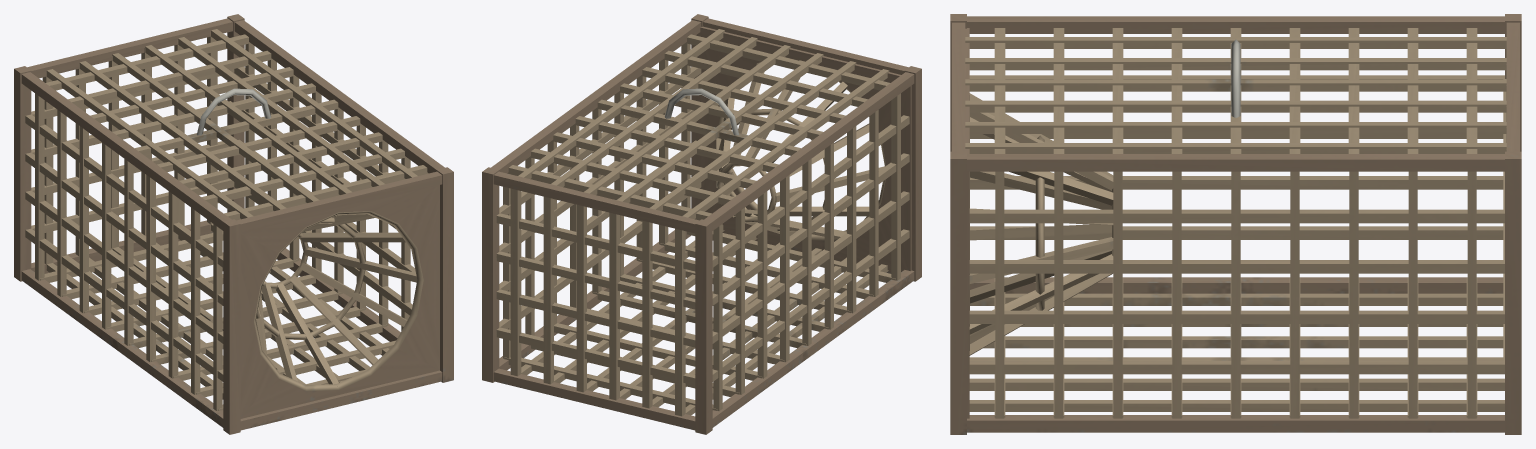
Rendered from lake_fishing_trap_cage.glb.
The picture shows the model from 3 angles, left to right: view 1: azimuth 30°, elevation 25°; view 2: azimuth 150°, elevation 25°; view 3: azimuth 270°, elevation 25°; orthographic projection. The views are drawn at different scales.
Visible parts, largest first — view 1: FishingTrapCage; view 2: FishingTrapCage; view 3: FishingTrapCage.
Boxes of the visible parts, x1,y1,x2,y2 form: FishingTrapCage: [14, 14, 453, 434]; FishingTrapCage: [482, 14, 921, 434]; FishingTrapCage: [950, 14, 1521, 434].
Bounding box in the file's own units: 0.45 × 0.4608 × 0.75.
Materials: 1 (1 with a texture image).
